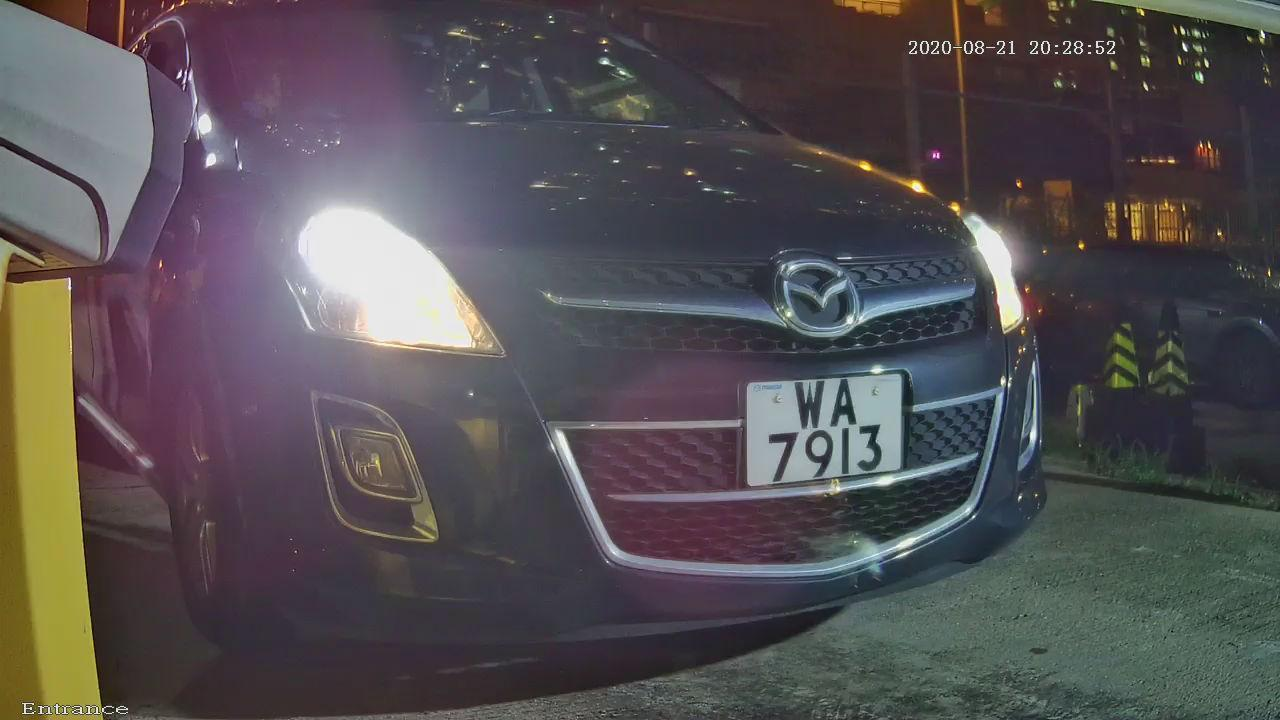Car: (69, 4, 1126, 679)
License Plate: (713, 344, 926, 524)
